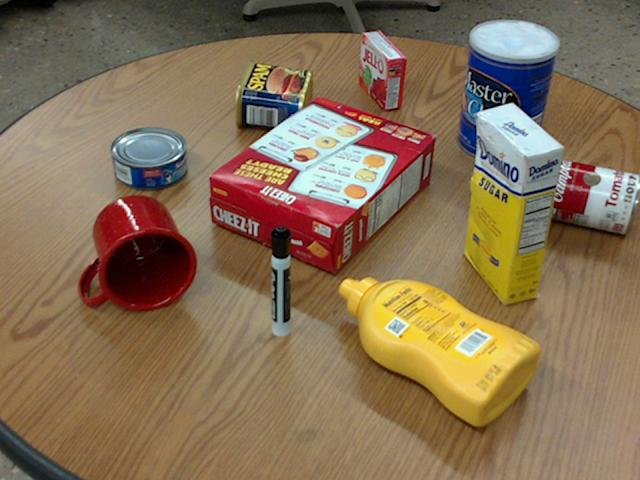cracker_box: (208, 97, 434, 273)
gelatin_box: (359, 30, 405, 108)
large_marker: (269, 225, 289, 336)
master_chef_can: (457, 20, 558, 161)
mug: (78, 195, 195, 310)
mustard_bottle: (338, 277, 538, 424)
potted_meat_can: (234, 60, 312, 129)
sugar_box: (465, 102, 562, 304)
tomato_soup_can: (533, 155, 639, 232)
tuna_fish_can: (110, 126, 186, 188)
